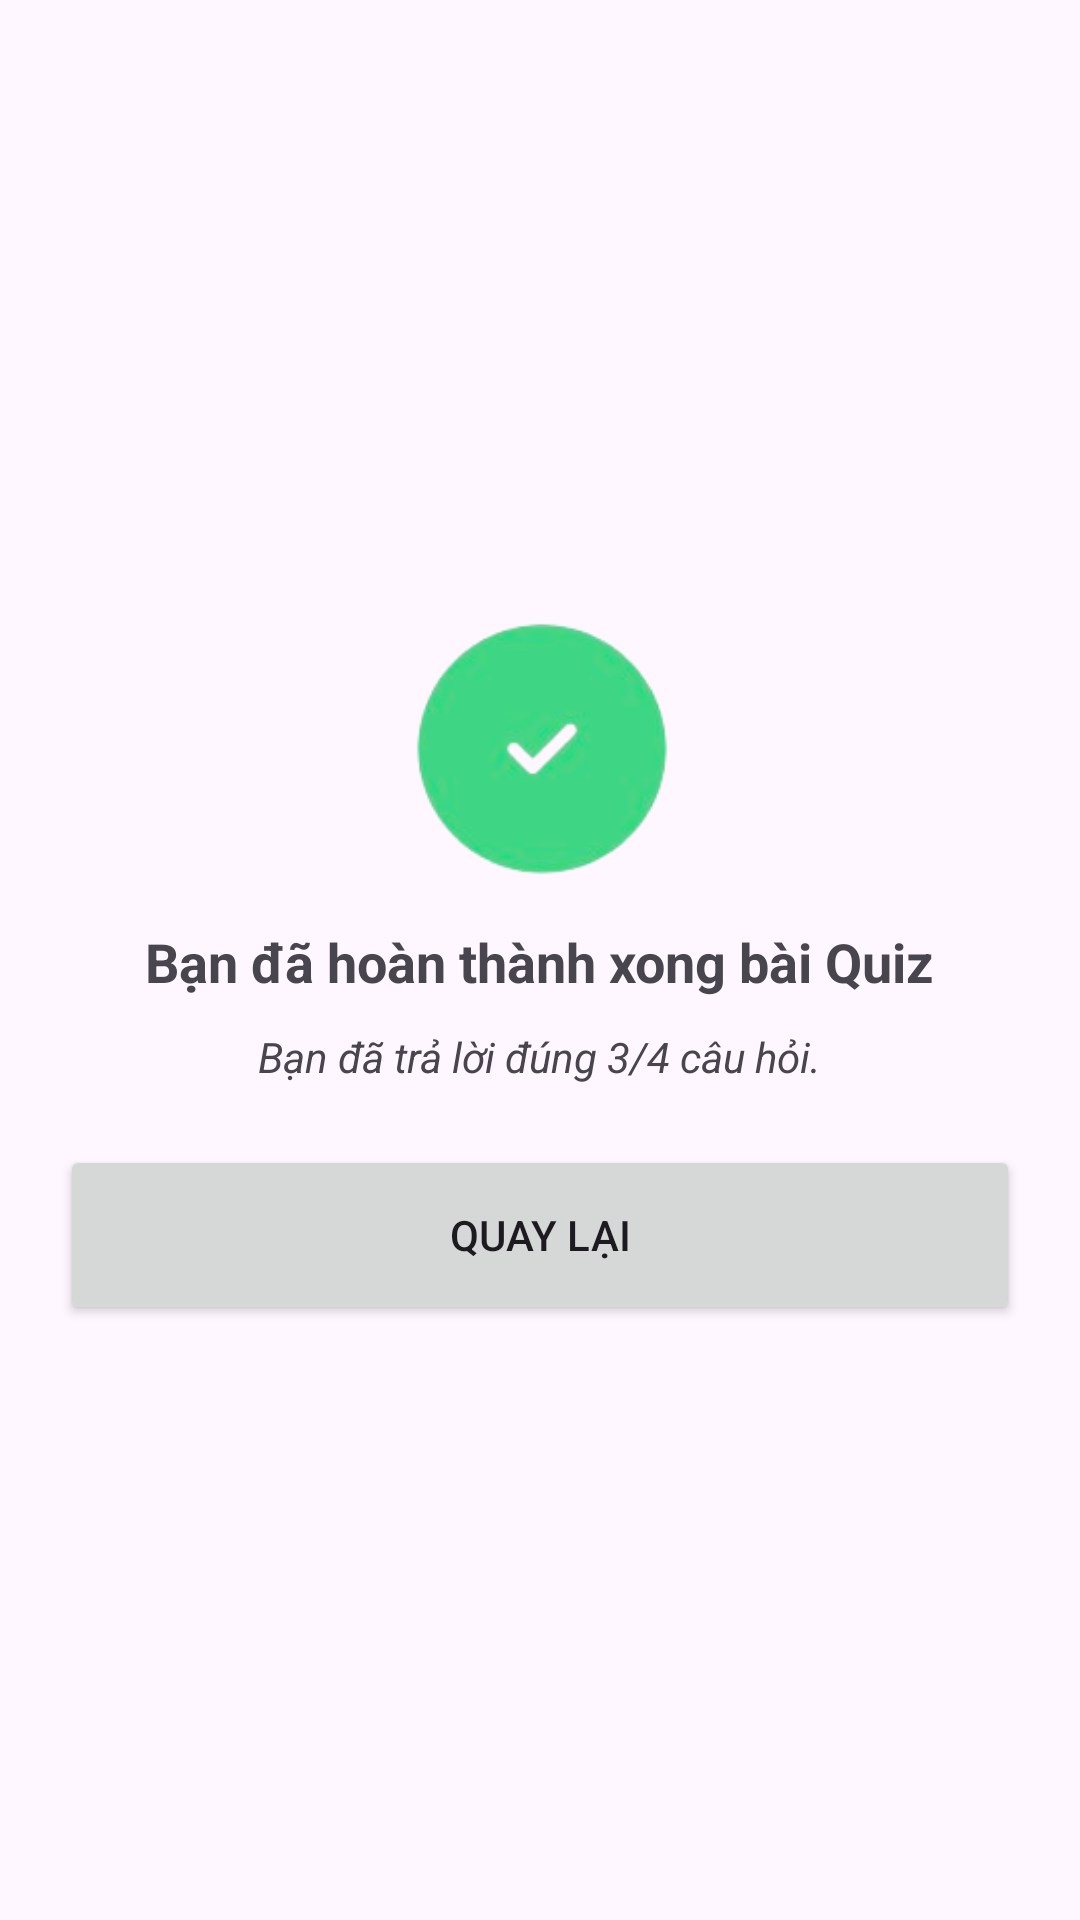

Point at icon controls on the screen. Image size 1080*1920, points as point (x, y).
login succesful: point (542, 749)
